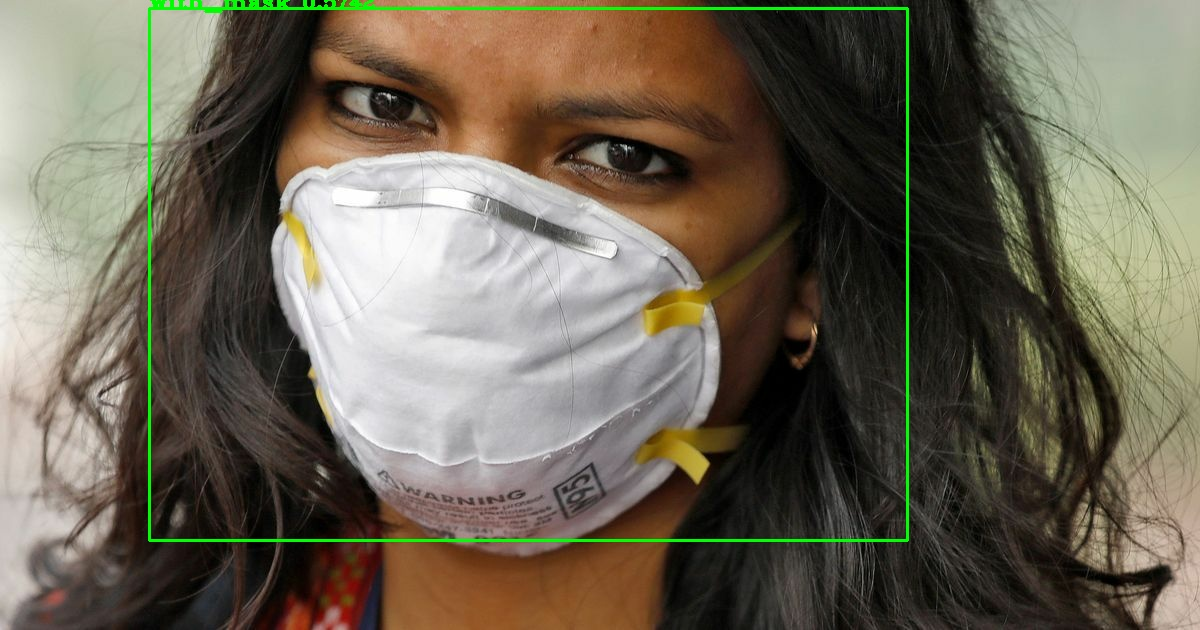with_mask: (251, 1, 864, 555)
